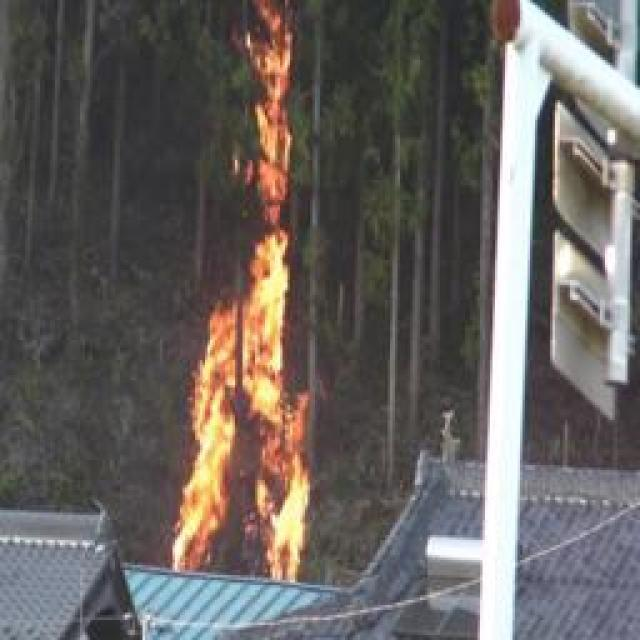Fire: (167, 17, 315, 578)
